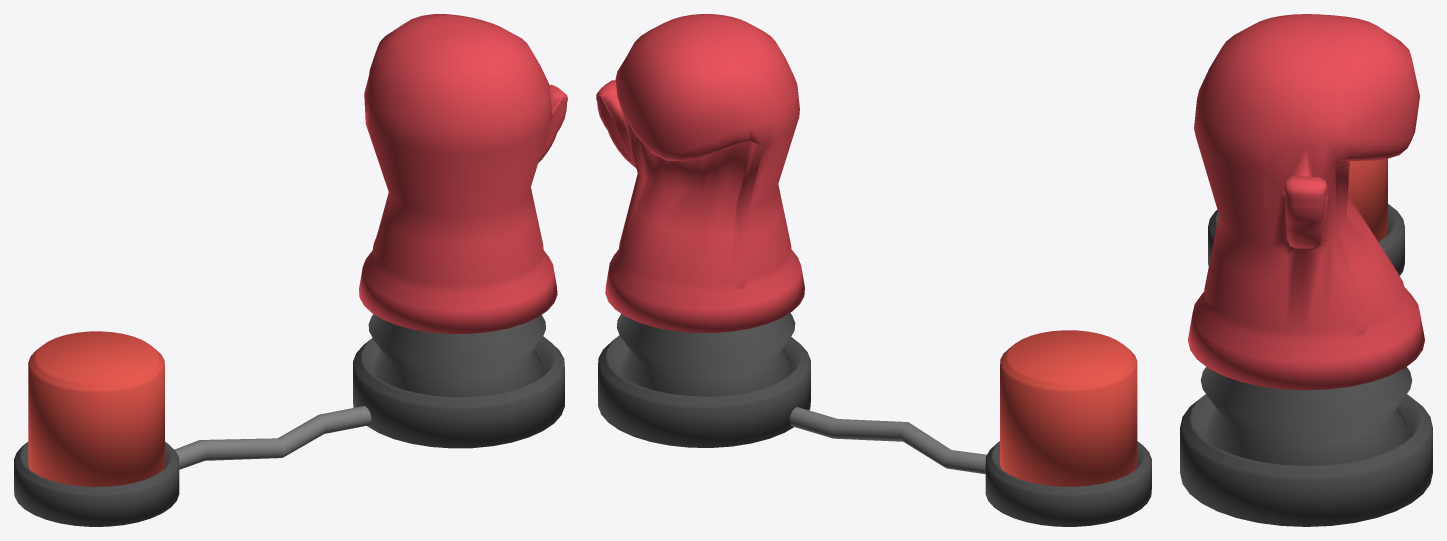
Rendered from Resorteconguante.fbx.
3 renders of one model, left to right at view 1: azimuth 30°, elevation 25°; view 2: azimuth 150°, elevation 25°; view 3: azimuth 270°, elevation 25°, orthographic. The views are drawn at different scales.
Visible parts, largest first — view 1: Guantedebox, Resorte_interruptor, Resorte_base, Resorte, Interruptor_base.001, Cable_resorte_guante; view 2: Guantedebox, Resorte_interruptor, Resorte_base, Resorte, Interruptor_base.001, Cable_resorte_guante; view 3: Guantedebox, Resorte_base, Resorte, Resorte_interruptor, Interruptor_base.001.
Boxes of the visible parts, x1,y1,x2,y2 form: Guantedebox: [359, 14, 567, 333]; Resorte_interruptor: [28, 331, 164, 486]; Resorte_base: [353, 336, 564, 448]; Resorte: [368, 314, 545, 396]; Interruptor_base.001: [14, 441, 179, 526]; Cable_resorte_guante: [175, 406, 371, 469]; Guantedebox: [596, 14, 804, 332]; Resorte_interruptor: [1000, 330, 1137, 486]; Resorte_base: [598, 335, 810, 447]; Resorte: [616, 313, 795, 396]; Interruptor_base.001: [985, 441, 1151, 526]; Cable_resorte_guante: [789, 407, 986, 474]; Guantedebox: [1188, 14, 1424, 390]; Resorte_base: [1180, 394, 1432, 526]; Resorte: [1200, 367, 1412, 465]; Resorte_interruptor: [1348, 158, 1387, 241]; Interruptor_base.001: [1208, 204, 1404, 275].
Bounding box in the file's own units: 1491 × 990 × 510.
